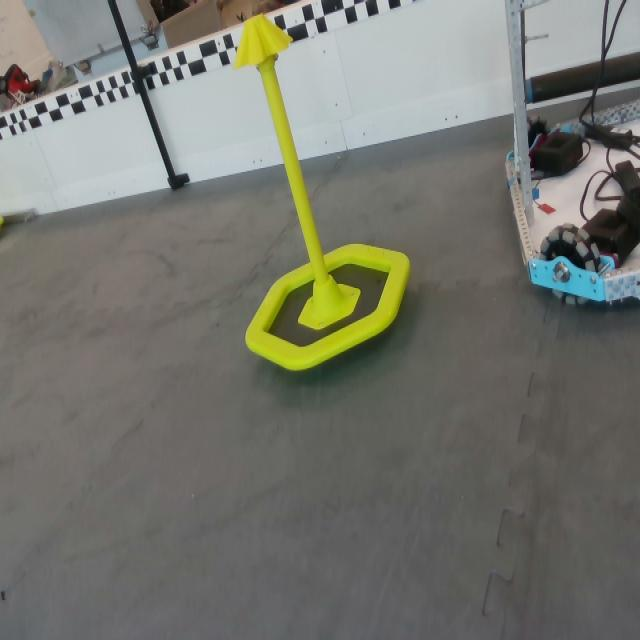Mobile-Goal: (239, 17, 412, 376)
Yellow-Stake-Head: (234, 13, 293, 71)
